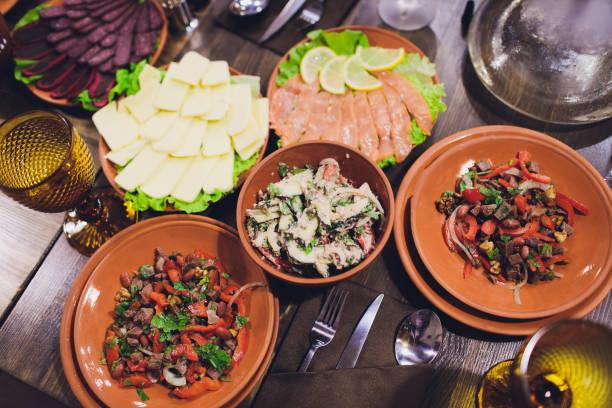Braised Crucian Carp: (395, 126, 608, 330), (63, 213, 276, 406), (96, 60, 262, 211), (267, 24, 437, 170), (235, 139, 391, 285), (8, 0, 163, 110)
